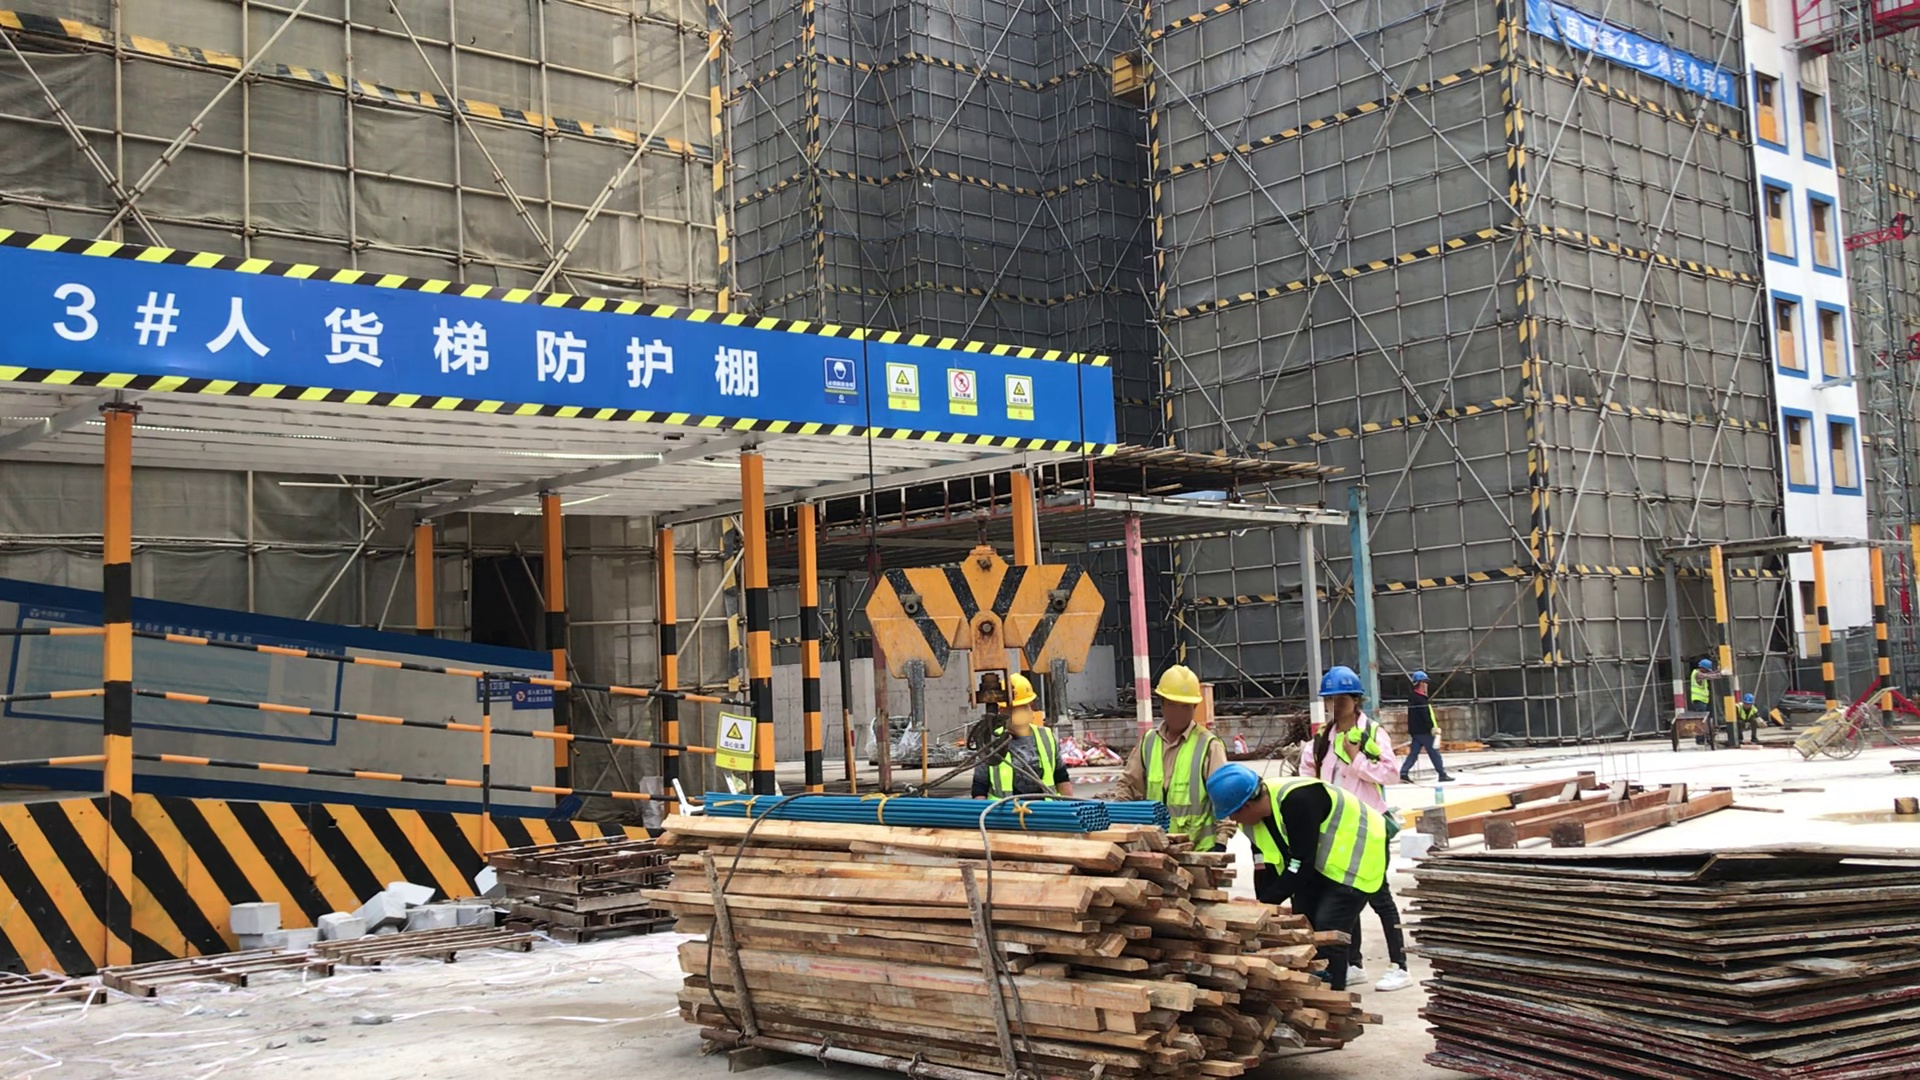board: (1408, 830, 1920, 1077)
handcart: (1796, 686, 1903, 771)
helmet: (1204, 764, 1262, 817), (1154, 665, 1205, 710), (998, 674, 1038, 710), (1319, 667, 1364, 698), (1409, 669, 1431, 683), (1696, 658, 1712, 671), (1743, 693, 1754, 705)
hook: (864, 537, 1107, 691)
person: (1202, 763, 1388, 954), (1309, 670, 1405, 993), (1111, 662, 1231, 837), (967, 673, 1071, 803), (1403, 669, 1444, 783), (1685, 657, 1712, 713), (1737, 693, 1766, 743)
slogan: (1529, 1, 1743, 106)
vest: (1256, 777, 1389, 887), (1142, 720, 1204, 817), (981, 723, 1055, 798), (1689, 671, 1709, 701)
wood: (651, 811, 1371, 1080)
